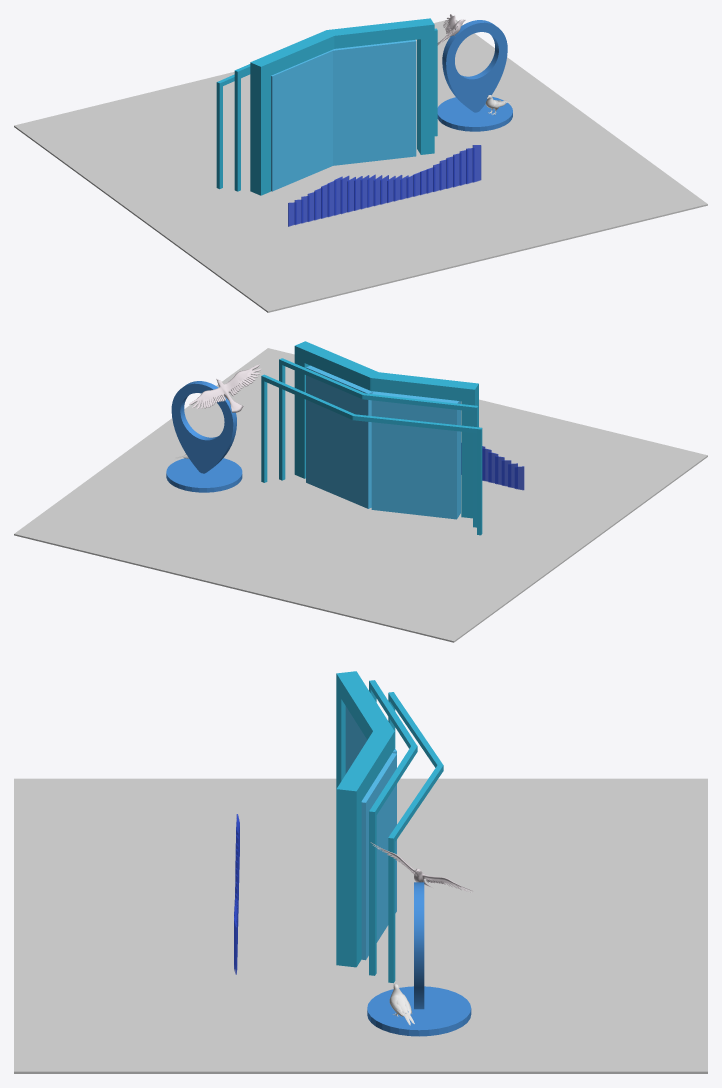
3 renders of one model, top to bottom at view 1: azimuth 30°, elevation 25°; view 2: azimuth 150°, elevation 25°; view 3: azimuth 270°, elevation 25°, orthographic. The views are drawn at different scales.
Parts seen in each view (by area): view 1: Ground, Cube.001, Cube, Cube.002, Cube.003, Curve, Cylinder, Cube.007, Cube.005; view 2: Ground, Cube, Cube.001, Cube.002, Cube.003, Curve, Cylinder, Cube.005, Cube.006, Cube.004, Cube.007, DOVE; view 3: Ground, Cube.003, Cube.001, Cylinder, Cube.002, Cube.004, Cube.006, Curve, Cube.005, Cube, Cube.007, DOVE.
Part boxes in pixels (x1,y1,x2,y2): Ground: [14, 19, 707, 312]; Cube.001: [333, 40, 416, 165]; Cube: [271, 49, 333, 191]; Cube.002: [250, 30, 335, 195]; Cube.003: [326, 18, 434, 154]; Curve: [442, 20, 507, 112]; Cylinder: [437, 97, 512, 131]; Cube.007: [234, 64, 250, 191]; Cube.005: [216, 71, 250, 189]; Ground: [14, 348, 707, 642]; Cube: [371, 391, 460, 519]; Cube.001: [306, 365, 373, 508]; Cube.002: [370, 371, 478, 518]; Cube.003: [294, 341, 380, 478]; Curve: [171, 381, 236, 473]; Cylinder: [166, 458, 242, 492]; Cube.005: [352, 414, 482, 535]; Cube.006: [261, 374, 354, 482]; Cube.004: [279, 358, 365, 480]; Cube.007: [362, 393, 478, 527]; DOVE: [189, 364, 260, 412]; Ground: [14, 778, 707, 1073]; Cube.003: [336, 731, 394, 967]; Cube.001: [361, 753, 396, 960]; Cylinder: [367, 986, 471, 1036]; Cube.002: [336, 671, 394, 788]; Cube.004: [369, 745, 417, 975]; Cube.006: [388, 764, 443, 983]; Curve: [414, 882, 424, 1009]; Cube.005: [388, 692, 443, 770]; Cube: [345, 706, 396, 773]; Cube.007: [369, 680, 417, 751]; DOVE: [370, 842, 473, 892].
Size of the model in its own units: 10 by 3.24 by 10.
